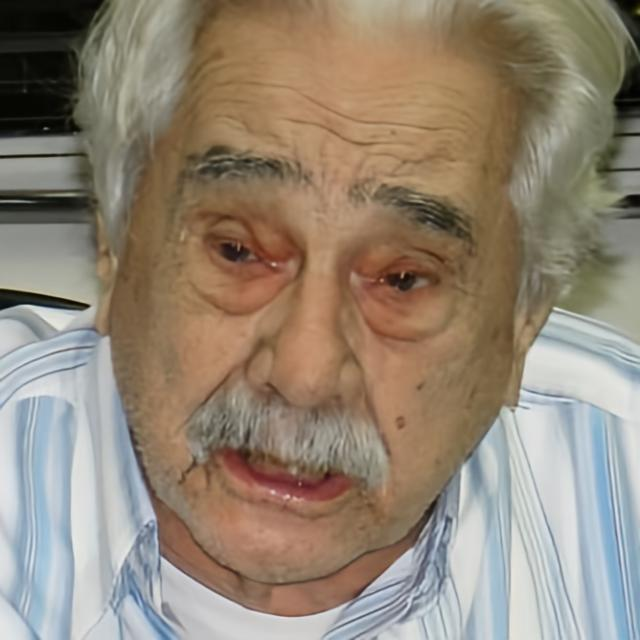sad: (116, 34, 518, 582)
